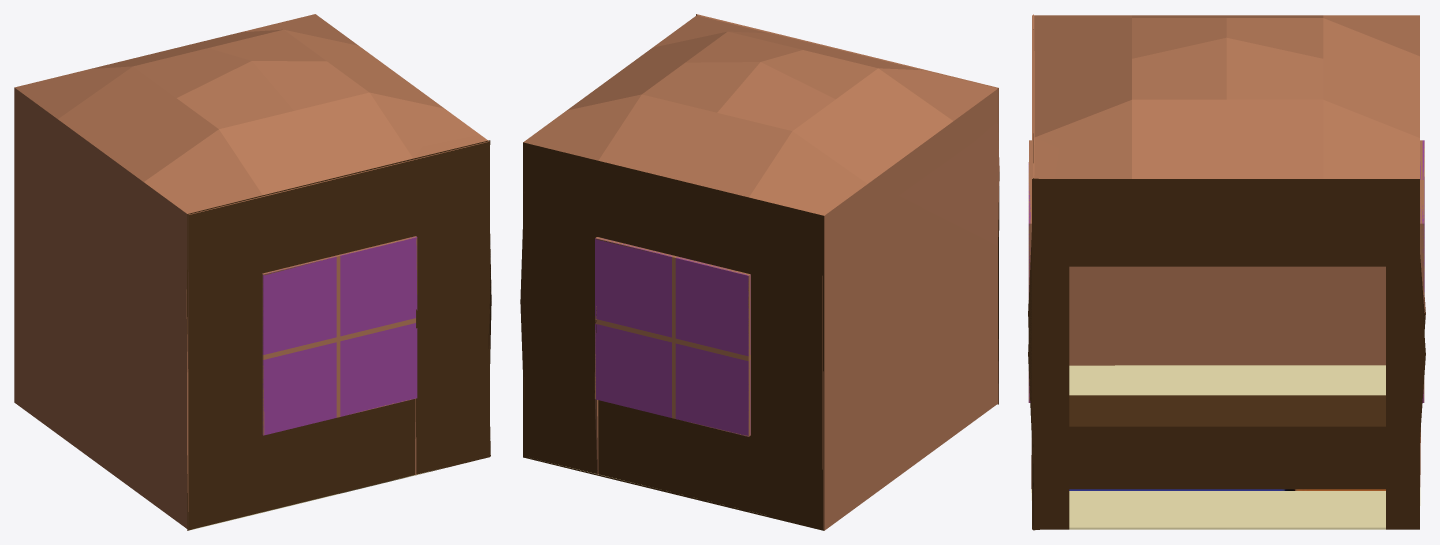
Rendered from Store.fbx.
3 renders of one model, left to right at view 1: azimuth 30°, elevation 25°; view 2: azimuth 150°, elevation 25°; view 3: azimuth 270°, elevation 25°, orthographic. The views are drawn at different scales.
Visible parts, largest first — view 1: Store, Window Glass; view 2: Store, Window Glass; view 3: Store, Window Glass.
Part boxes in pixels (left/top/right/bottom): Store: left=14, top=14, right=491, bottom=530; Window Glass: left=262, top=236, right=417, bottom=435; Store: left=520, top=14, right=999, bottom=530; Window Glass: left=595, top=237, right=750, bottom=436; Store: left=1028, top=14, right=1425, bottom=530; Window Glass: left=1028, top=140, right=1424, bottom=402.
Bounding box in the file's own units: 486 × 565 × 495.
